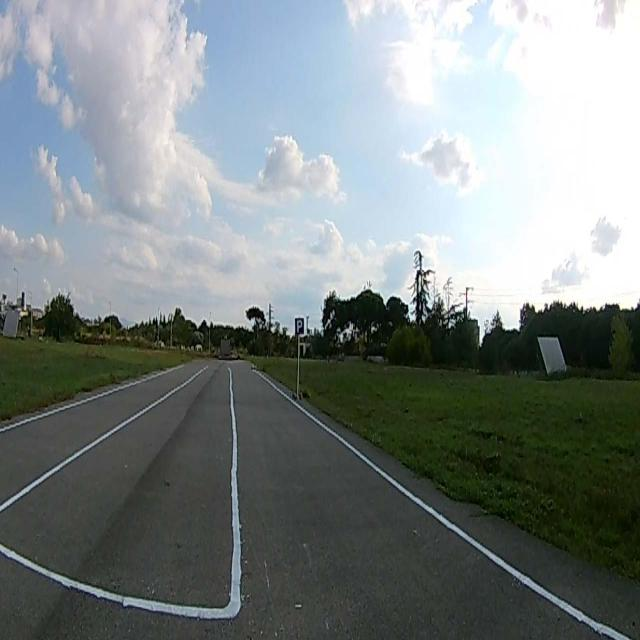park: (294, 317, 304, 335)
